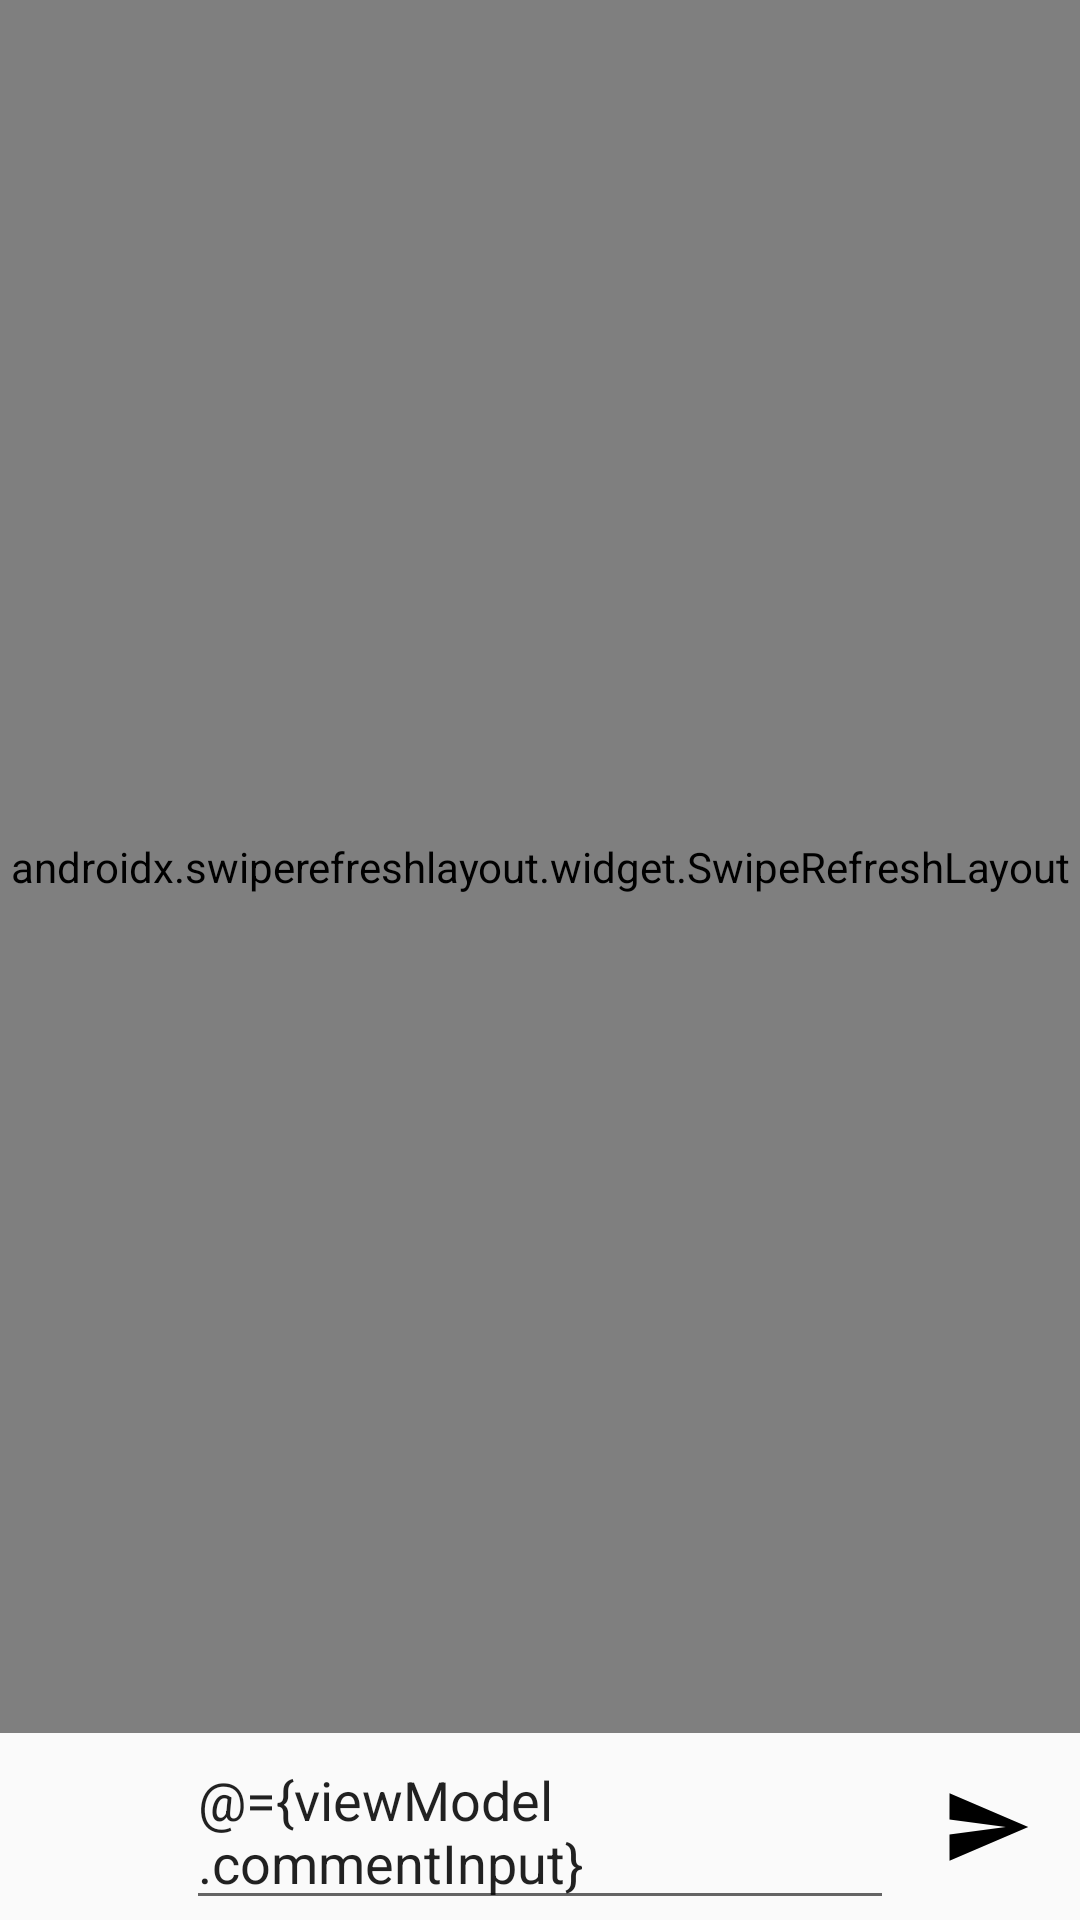

Where icons sit on this 1080*1920 app screen, as (x1, y1, x2, y2):
send: (949, 1793, 1028, 1861)
